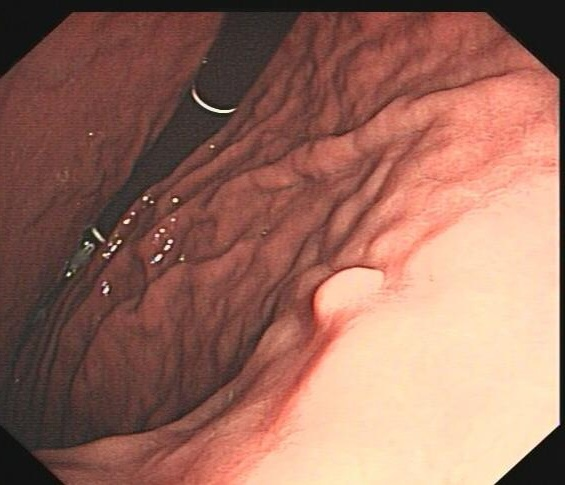Polyp: (302, 266, 391, 329)
